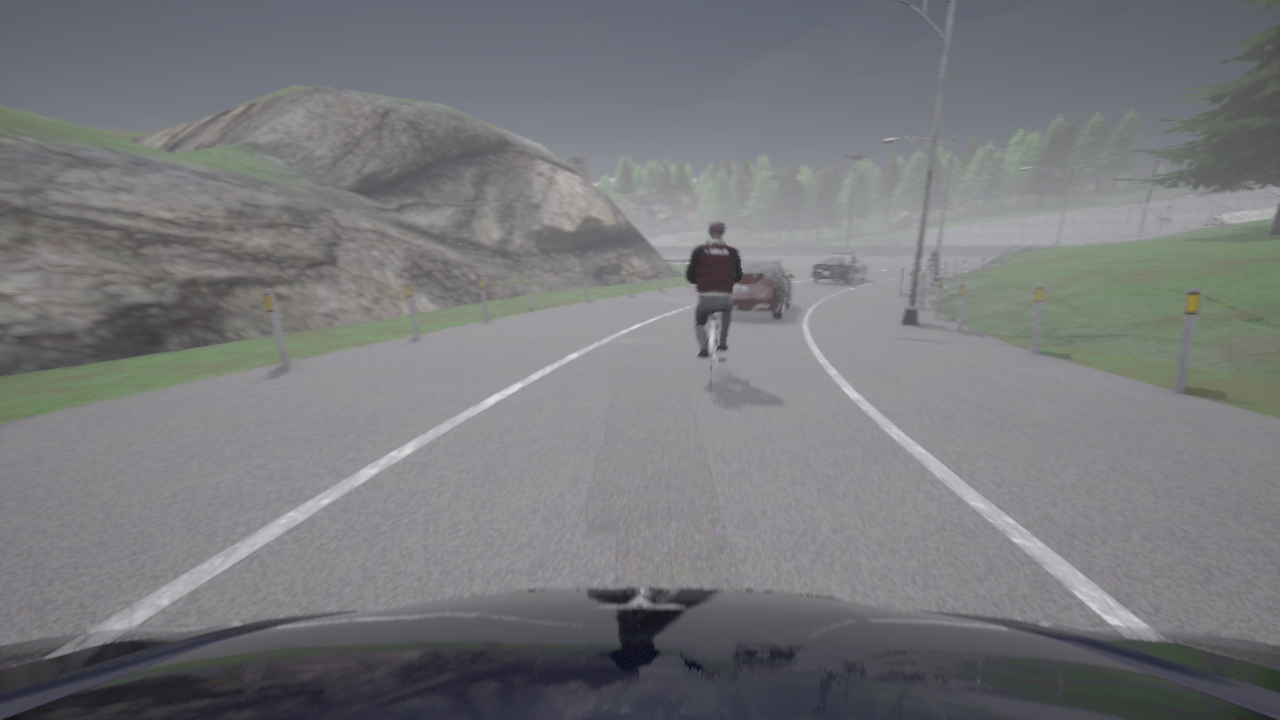cyclist: (0, 588, 1279, 719), (731, 259, 794, 318), (698, 313, 726, 393), (811, 252, 867, 284), (1001, 245, 1036, 253), (926, 253, 942, 269)
